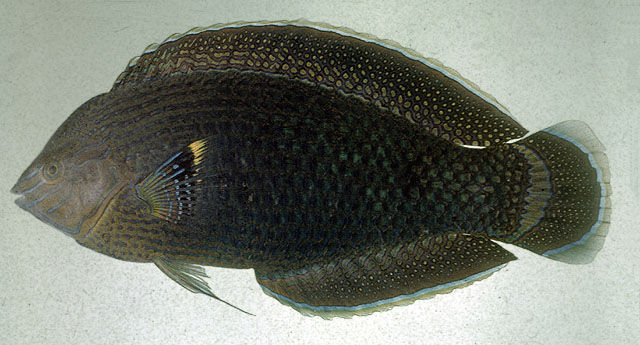fish: (9, 17, 614, 320)
